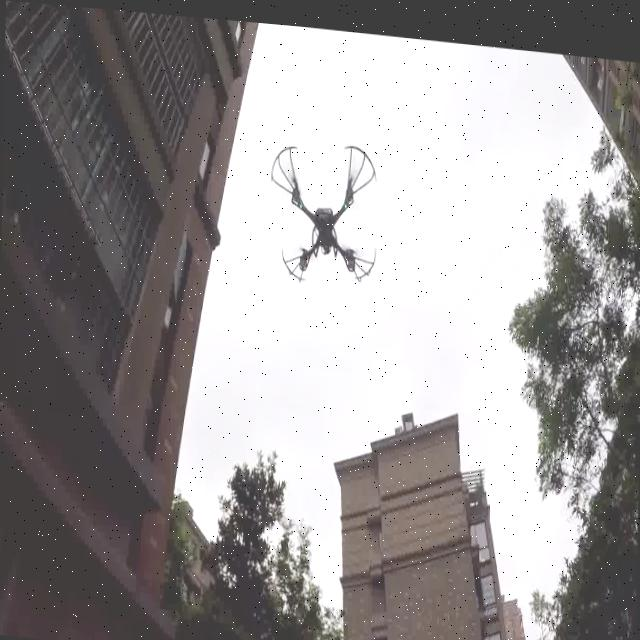drone: (270, 121, 384, 285)
